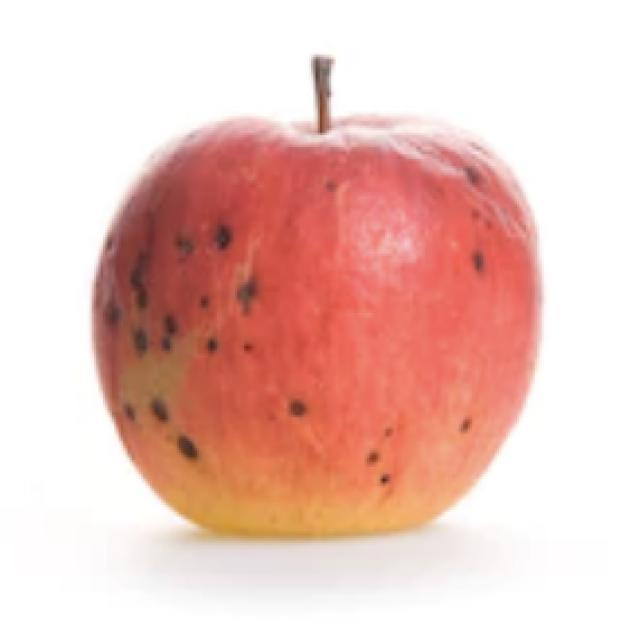Rotten: (103, 103, 527, 552)
